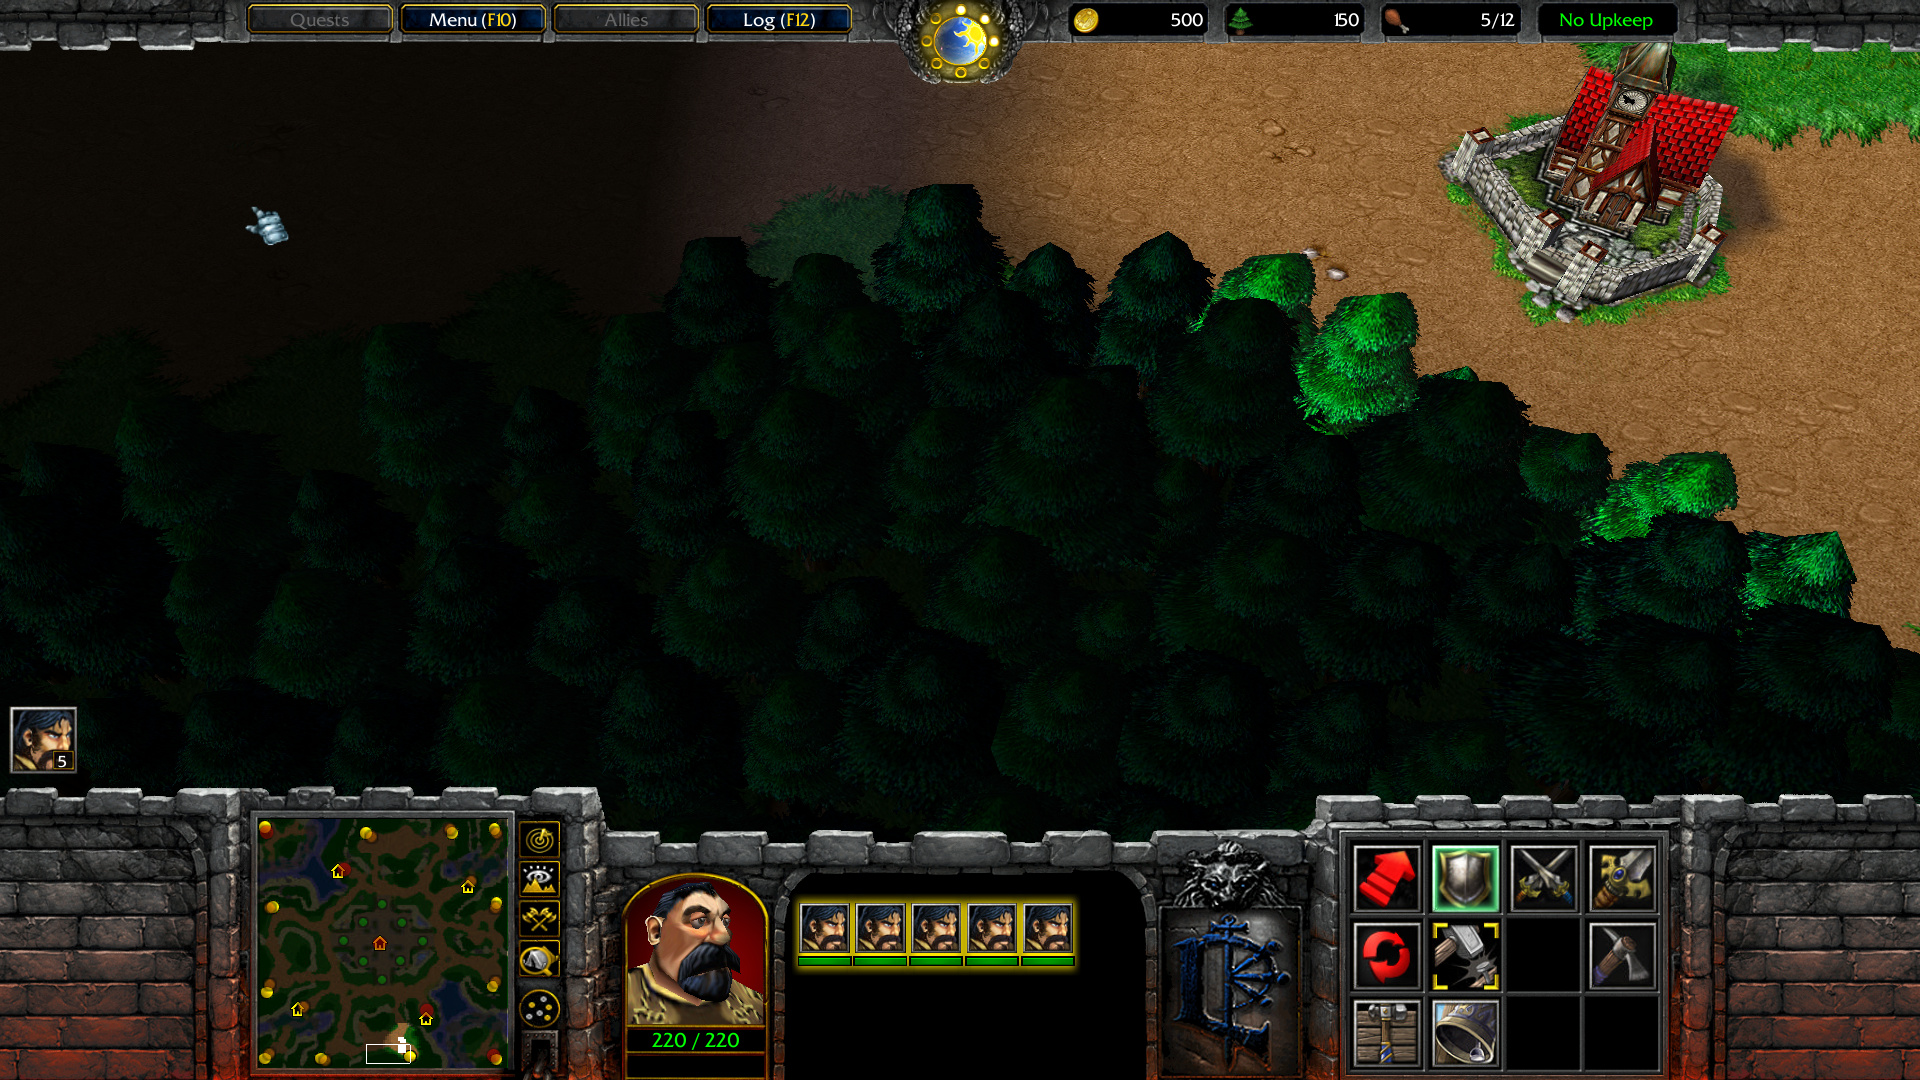Townhall: (1426, 39, 1744, 330)
